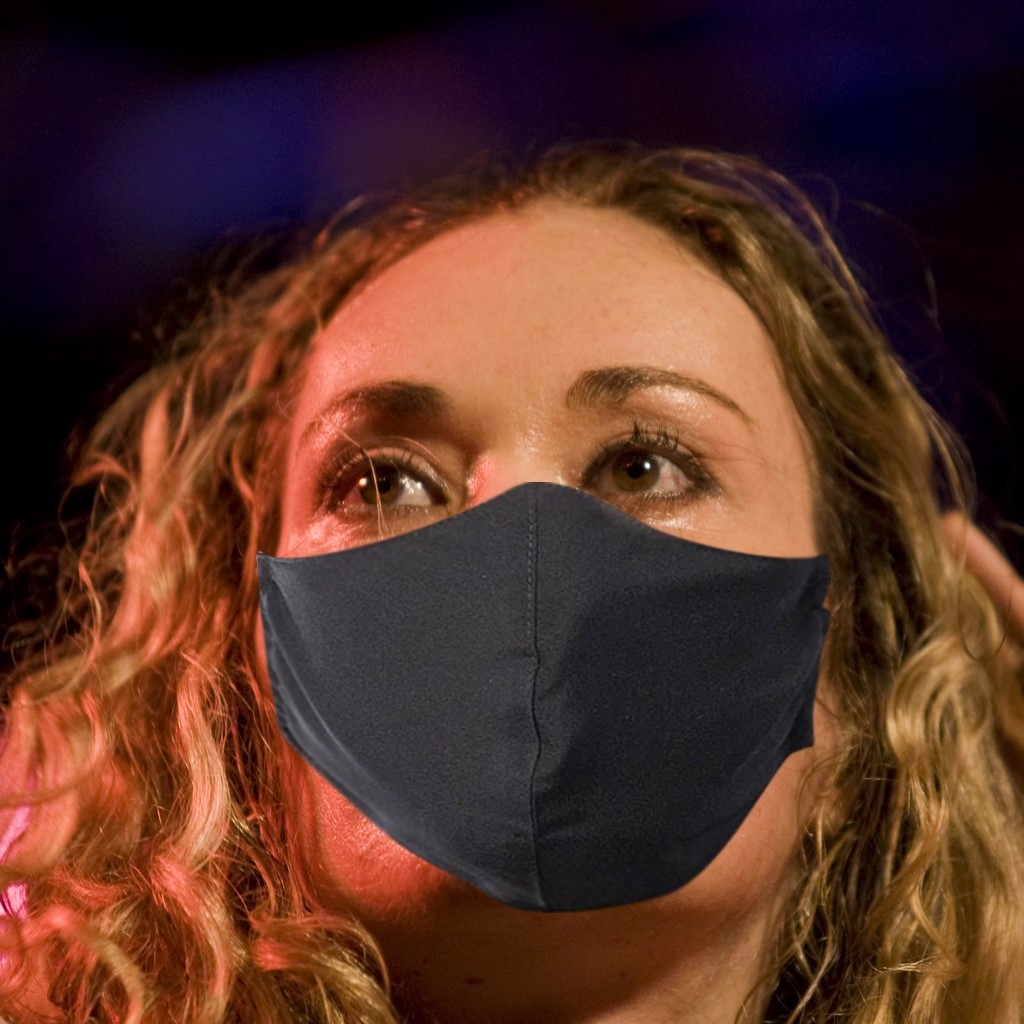con_mascara: (257, 208, 834, 931)
